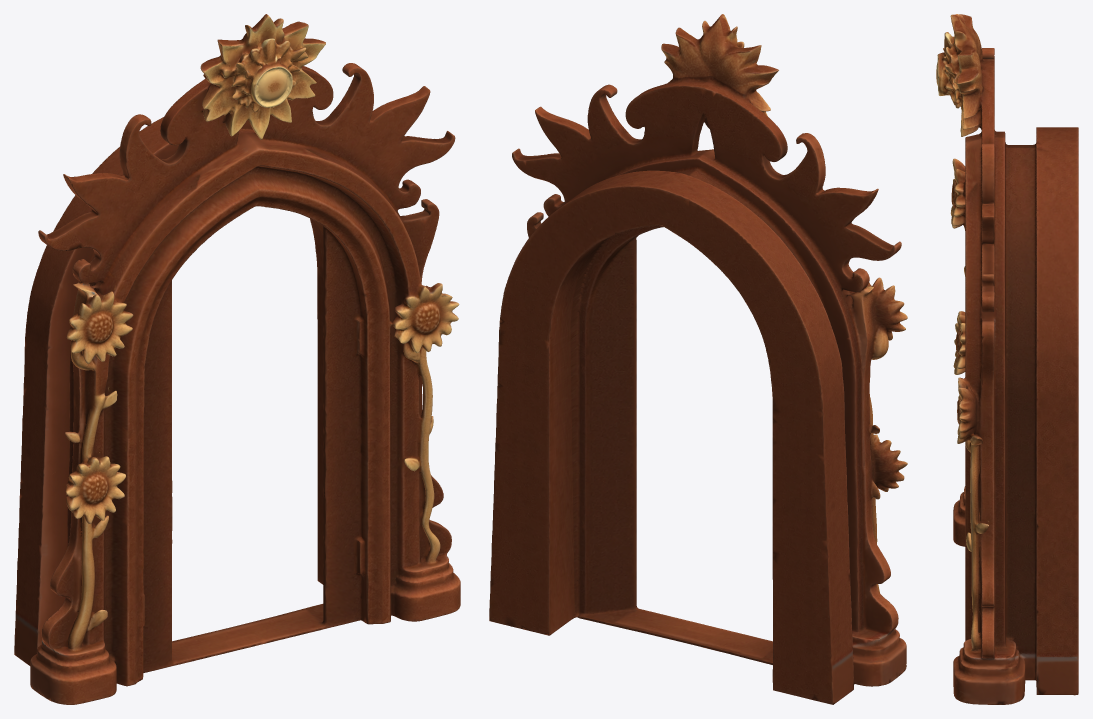
File: pipsSungate.8b44ee22.glb
The picture shows the model from 3 angles, left to right: view 1: azimuth 30°, elevation 25°; view 2: azimuth 150°, elevation 25°; view 3: azimuth 270°, elevation 25°; orthographic projection. The views are drawn at different scales.
Bounding box in the file's own units: 1.27 × 1.9 × 0.409.
Materials: 1 (1 with a texture image).
